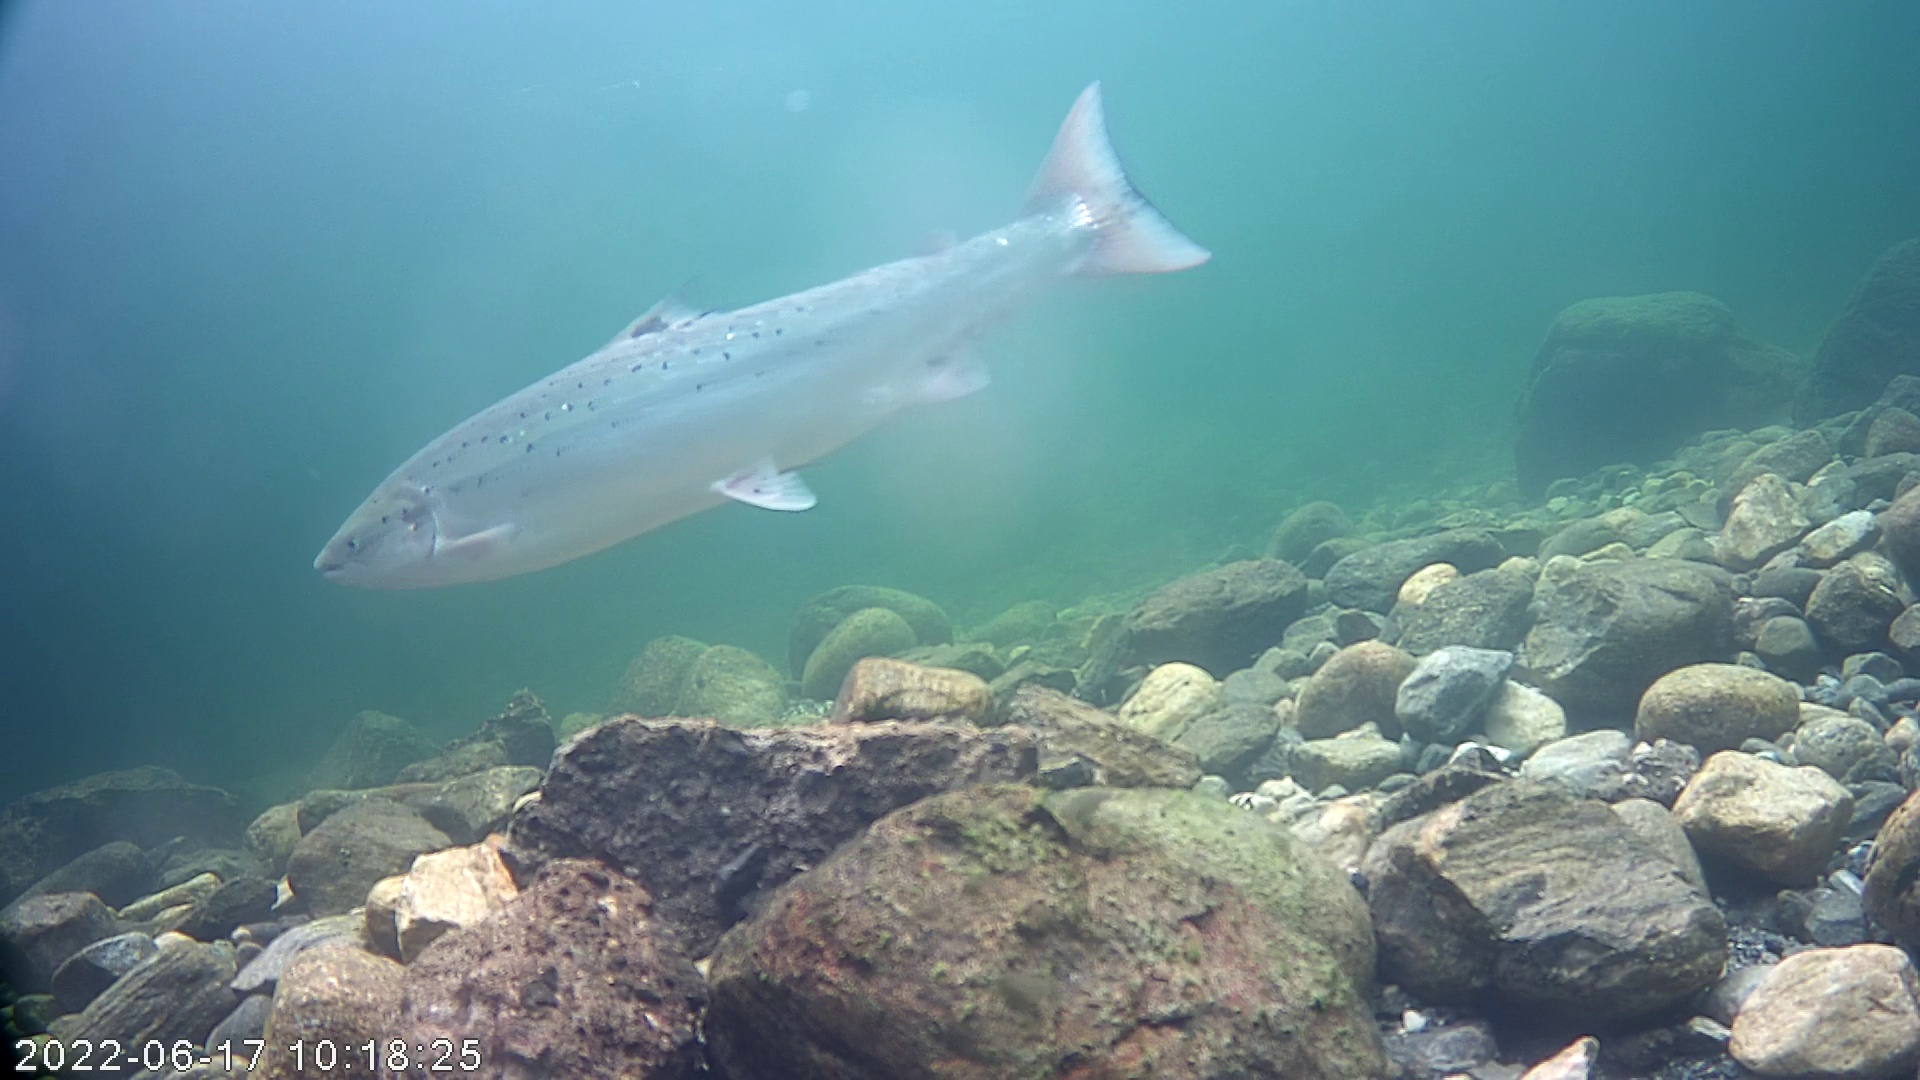salmon: (310, 78, 1215, 597)
